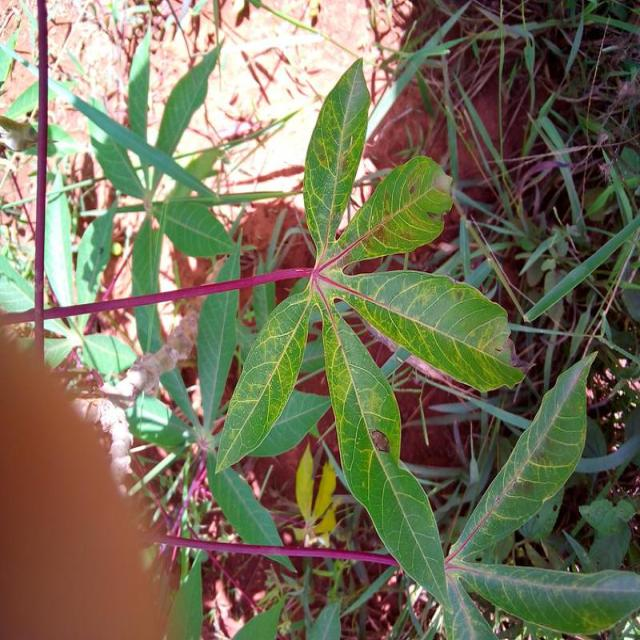cassava leaf: (321, 299, 452, 611), (449, 349, 599, 562), (214, 275, 320, 474), (303, 55, 372, 256)
